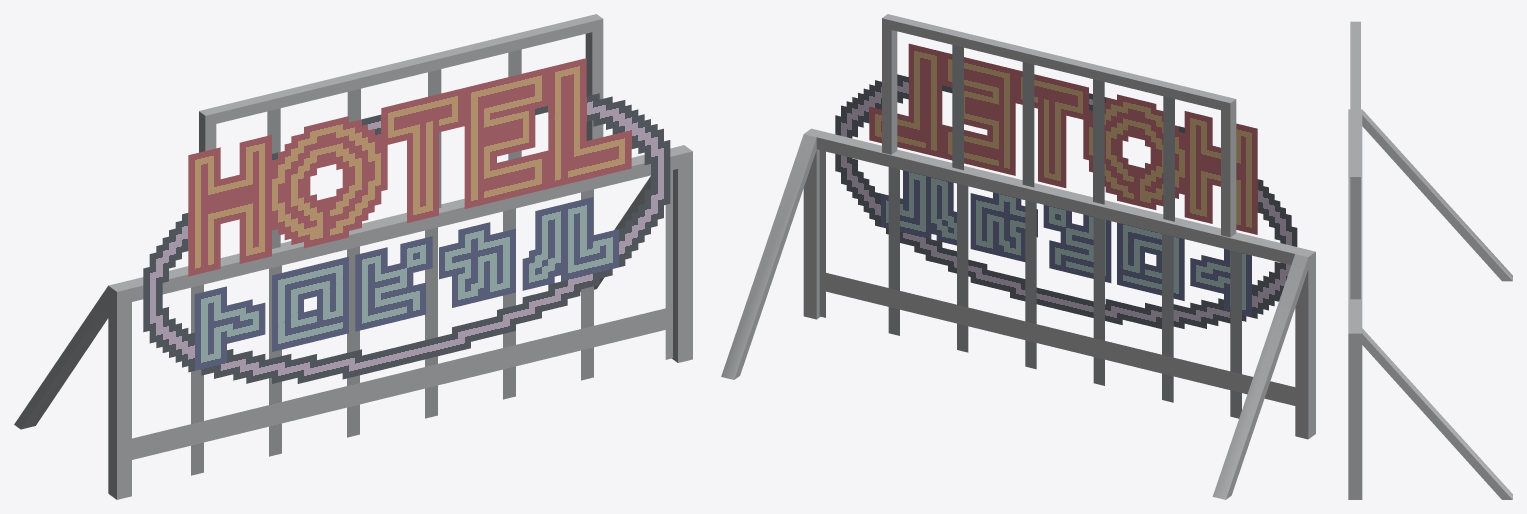
Rendered from 033c_Neon_Hotel_Sign.glb.
3 renders of one model, left to right at view 1: azimuth 30°, elevation 25°; view 2: azimuth 150°, elevation 25°; view 3: azimuth 270°, elevation 25°, orthographic. The views are drawn at different scales.
Visible parts, largest first — view 1: part_0; view 2: part_0; view 3: part_0.
Boxes of the visible parts, x1=… form: part_0: x1=14, y1=14, x2=692, y2=499; part_0: x1=721, y1=14, x2=1315, y2=499; part_0: x1=1348, y1=21, x2=1512, y2=499.
Size of the model in its own units: 14.98 by 8.98 by 4.76.
Materials: 1 (1 with a texture image).
